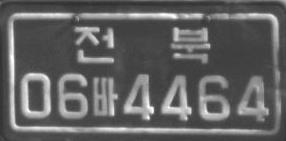0: (19, 71, 51, 118)
4: (236, 75, 269, 122), (123, 73, 154, 120), (161, 74, 192, 121)
6: (198, 74, 231, 121), (57, 72, 88, 119)
바: (92, 77, 118, 116)
전북_D: (73, 25, 211, 63)
